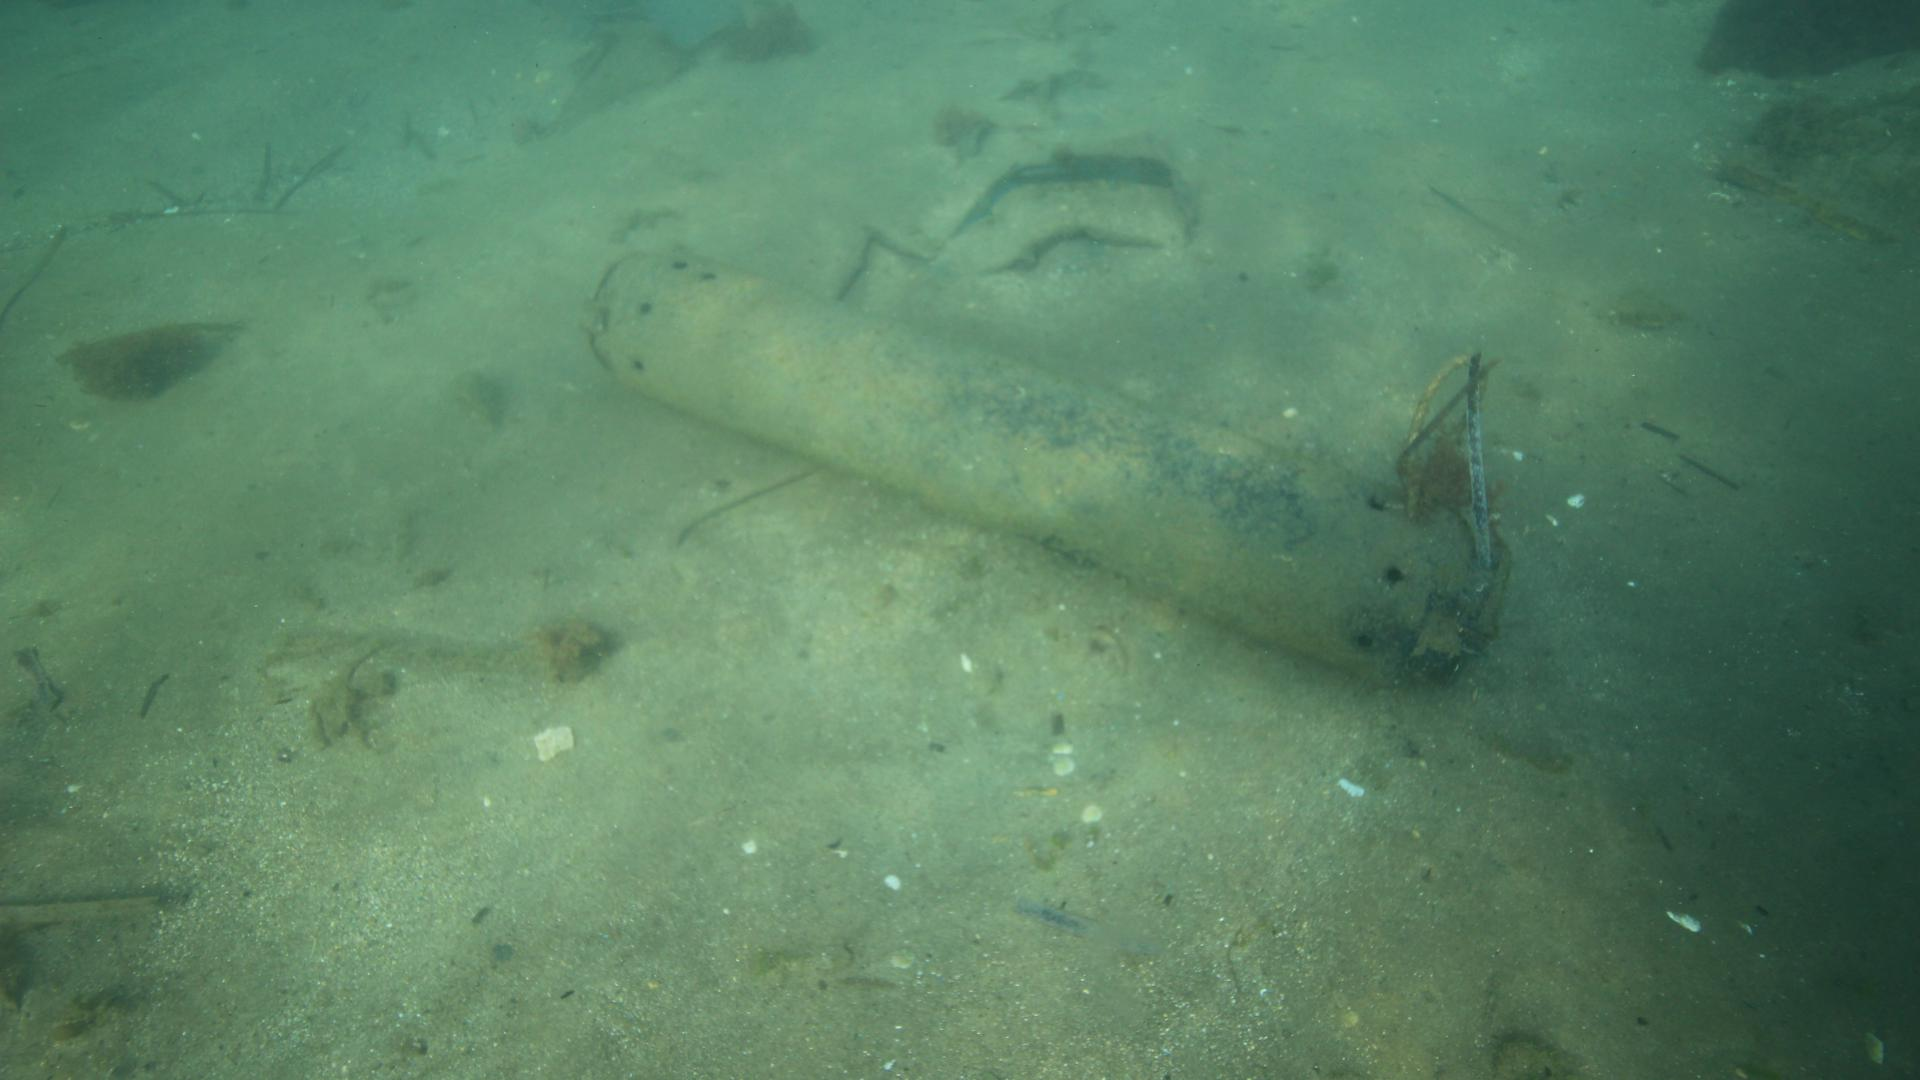eel fish trap: (582, 241, 1506, 686)
rope: (1396, 348, 1493, 531)
